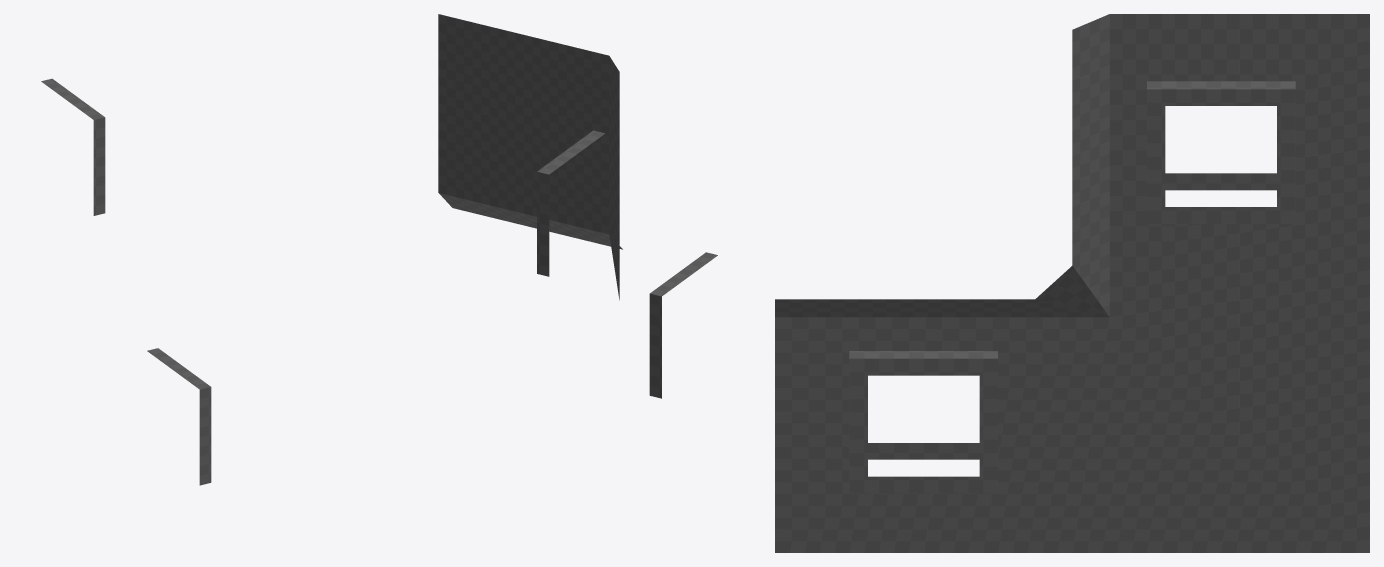
3 views of the same model, side by side, from view 1: azimuth 30°, elevation 25°; view 2: azimuth 150°, elevation 25°; view 3: azimuth 270°, elevation 25° (orthographic). The views are drawn at different scales.
Visible parts, largest first — view 1: CubeDownBackRight5V2; view 2: CubeDownBackRight5V2; view 3: CubeDownBackRight5V2.
Boxes of the visible parts, left/top/right/bottom form: CubeDownBackRight5V2: left=41, top=78, right=211, bottom=485; CubeDownBackRight5V2: left=438, top=14, right=717, bottom=398; CubeDownBackRight5V2: left=775, top=14, right=1369, bottom=552.
Size of the model in its own units: 2 by 4 by 4.
1 material, 1 textured.
